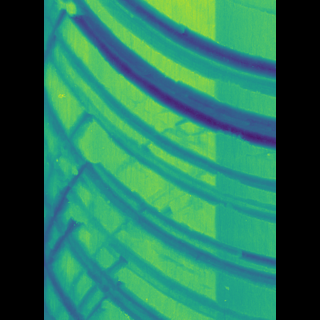Loch: (81, 25, 244, 224), (86, 0, 244, 154), (99, 160, 244, 293), (117, 0, 244, 100), (78, 226, 168, 319)
